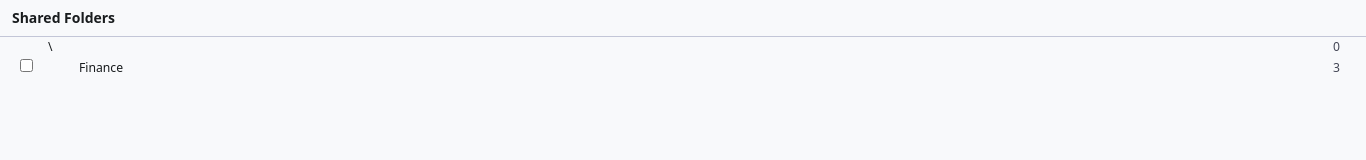
Test: SharedFolderTree › bulk selection › ticking a folder opens the bulk bar; Root has no checkbox
This screenshot has width=1366, height=160.
Expected: the text "Finance" is shown, [79, 58, 123, 76]
Click the checkbox with test id "shared-folder-select-finance".
click(26, 66)  # box [20, 59, 33, 72]
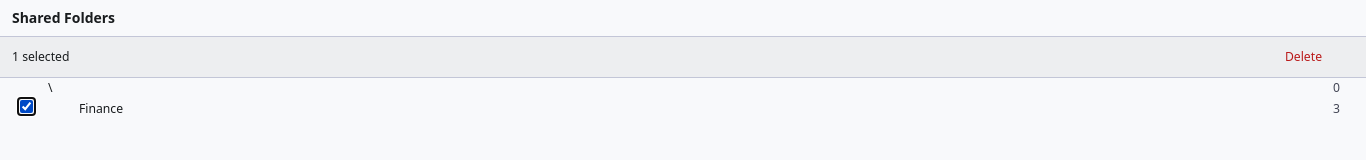
Result: the element with test id "folder-bulk-bar" is shown at [0, 37, 1365, 78]
